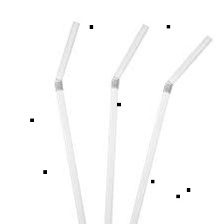drinking_straw: (120, 30, 216, 224), (99, 19, 152, 223), (48, 16, 92, 224)
